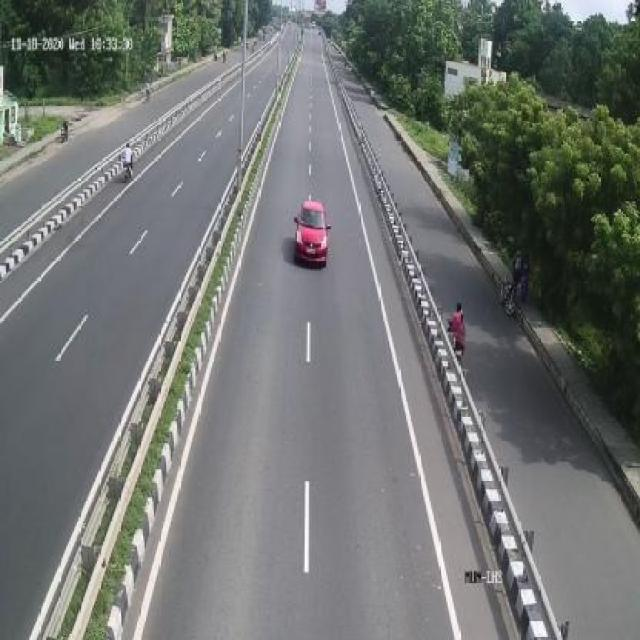car: (295, 194, 331, 269)
